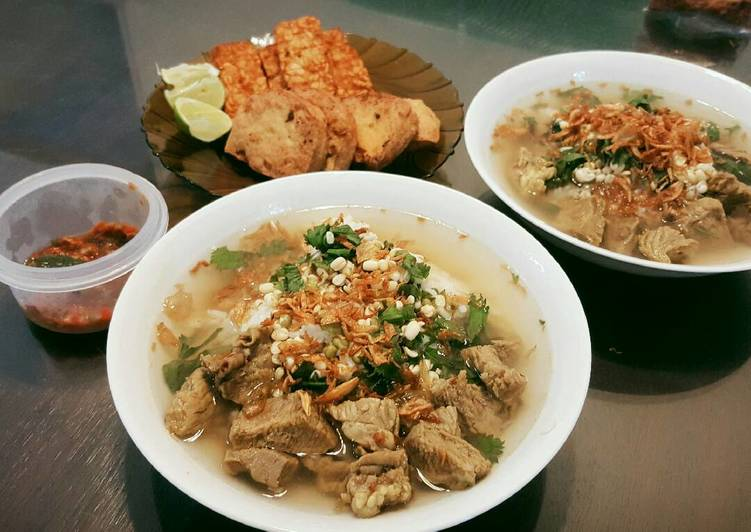soto: (144, 177, 590, 514), (504, 60, 751, 264)
